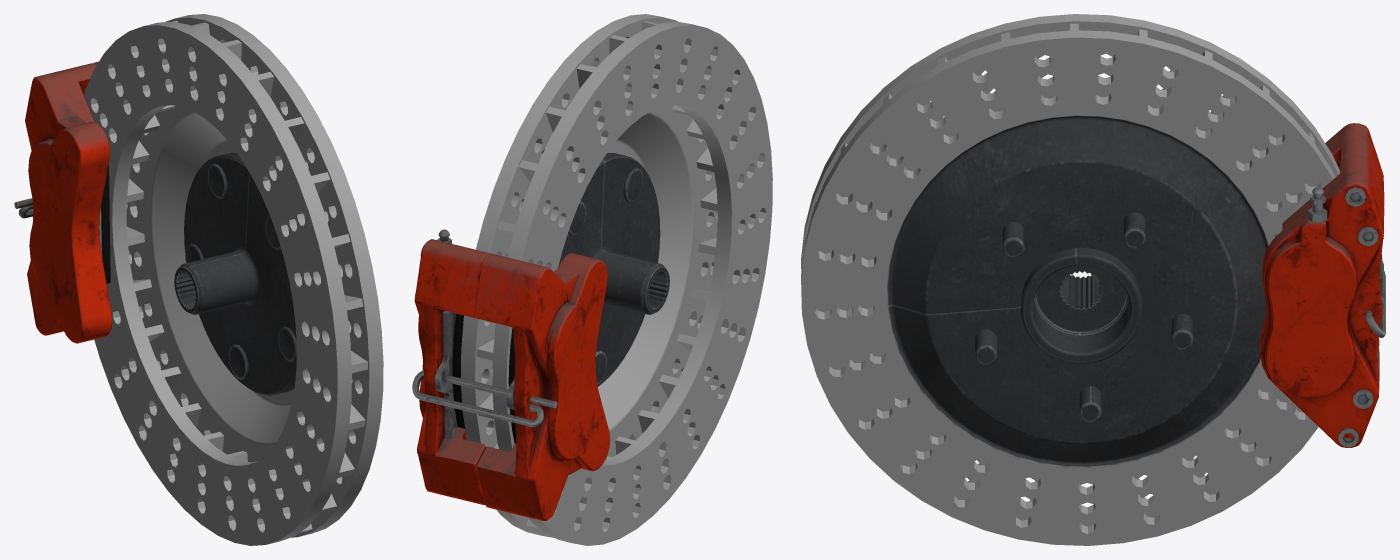
File: brake.glb
3 views of the same model, side by side, from view 1: azimuth 30°, elevation 25°; view 2: azimuth 150°, elevation 25°; view 3: azimuth 270°, elevation 25° (orthographic). The views are drawn at different scales.
Visible parts, largest first — view 1: BRAKE_ROTOR, BRAKE_CALIPER; view 2: BRAKE_ROTOR, BRAKE_CALIPER; view 3: BRAKE_ROTOR, BRAKE_CALIPER.
Boxes of the visible parts, x1=… form: BRAKE_ROTOR: x1=84, y1=14, x2=383, y2=545; BRAKE_CALIPER: x1=14, y1=61, x2=112, y2=343; BRAKE_ROTOR: x1=461, y1=14, x2=772, y2=545; BRAKE_CALIPER: x1=412, y1=229, x2=610, y2=520; BRAKE_ROTOR: x1=801, y1=14, x2=1340, y2=545; BRAKE_CALIPER: x1=1260, y1=123, x2=1385, y2=447.
Size of the model in its own units: 0.1067 by 0.3249 by 0.3387.
Materials: 2 (2 with a texture image).
